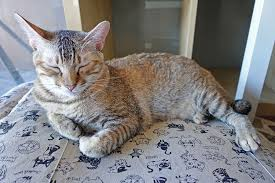cat: (11, 10, 119, 101)
